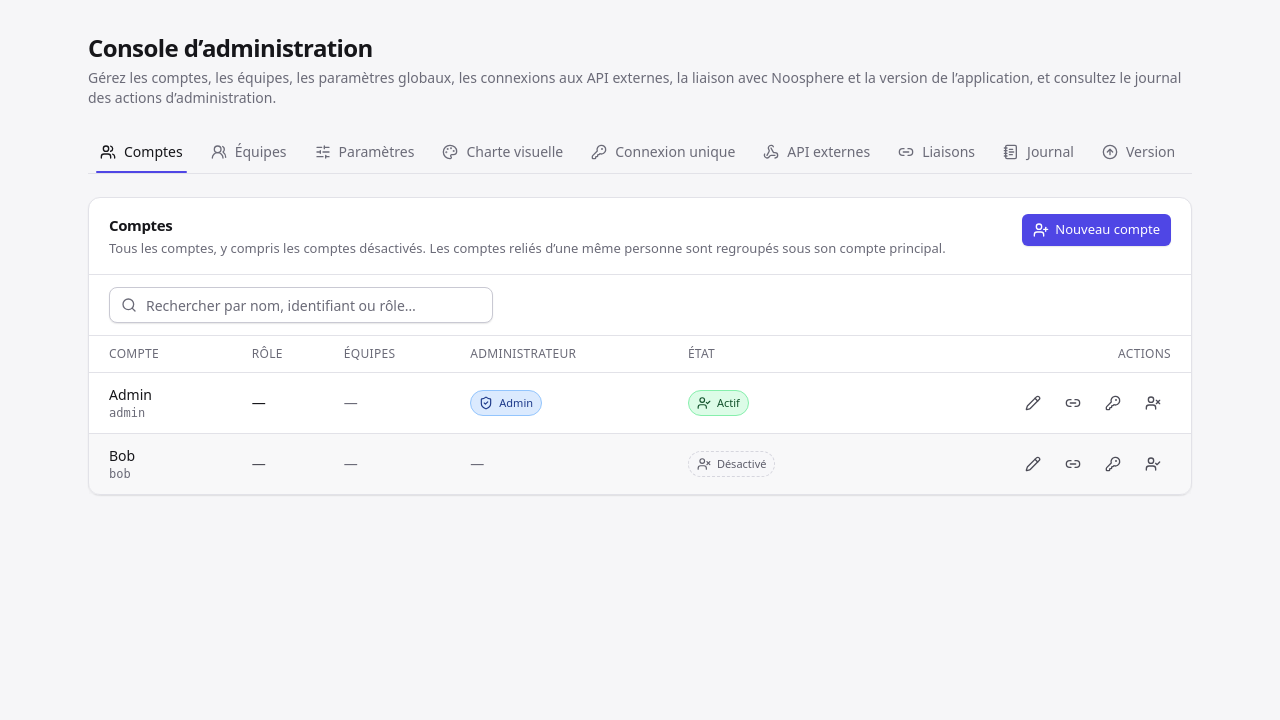
Test: Console d’administration › crée un compte et affiche le mot de passe provisoire
This screenshot has width=1280, height=720.
Expected: the text "Bob" is shown, left=109, top=446, right=135, bottom=466
Click the button "Nouveau compte" at (1097, 230), box left=1022, top=214, right=1171, bottom=246
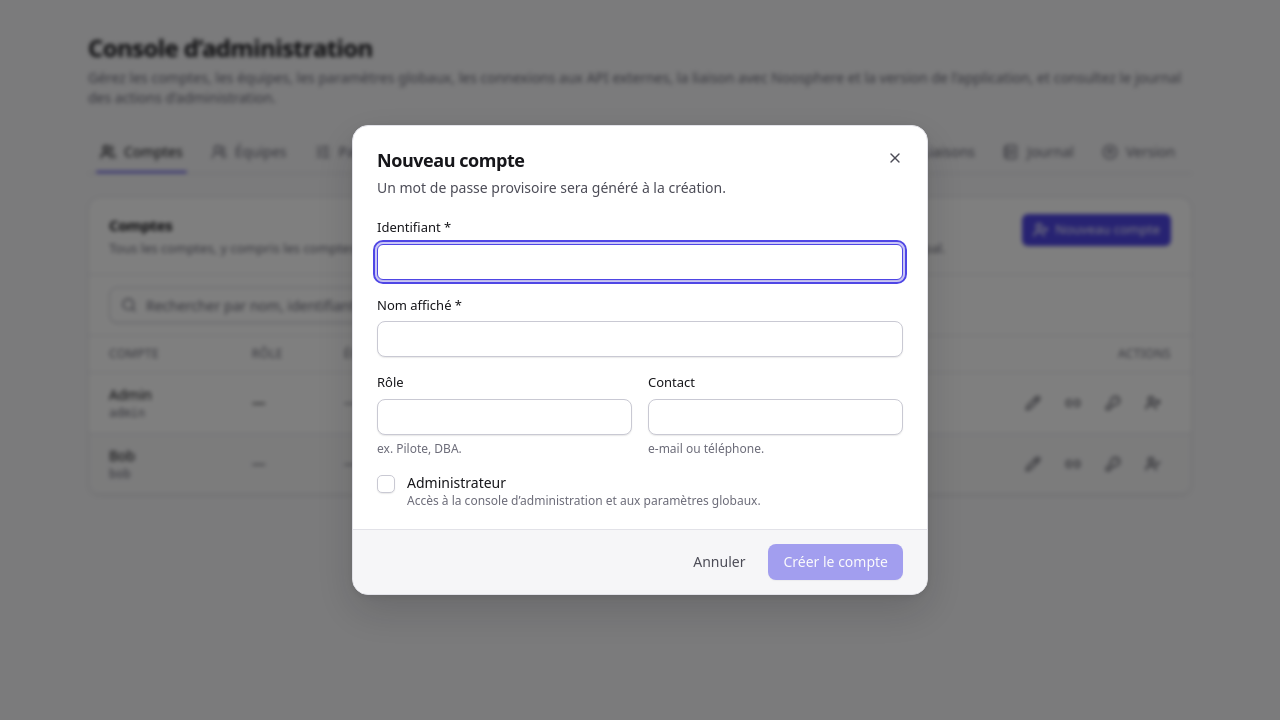
Type "dora" into the field labelled "Identifiant *" at (640, 262), box left=377, top=244, right=903, bottom=280
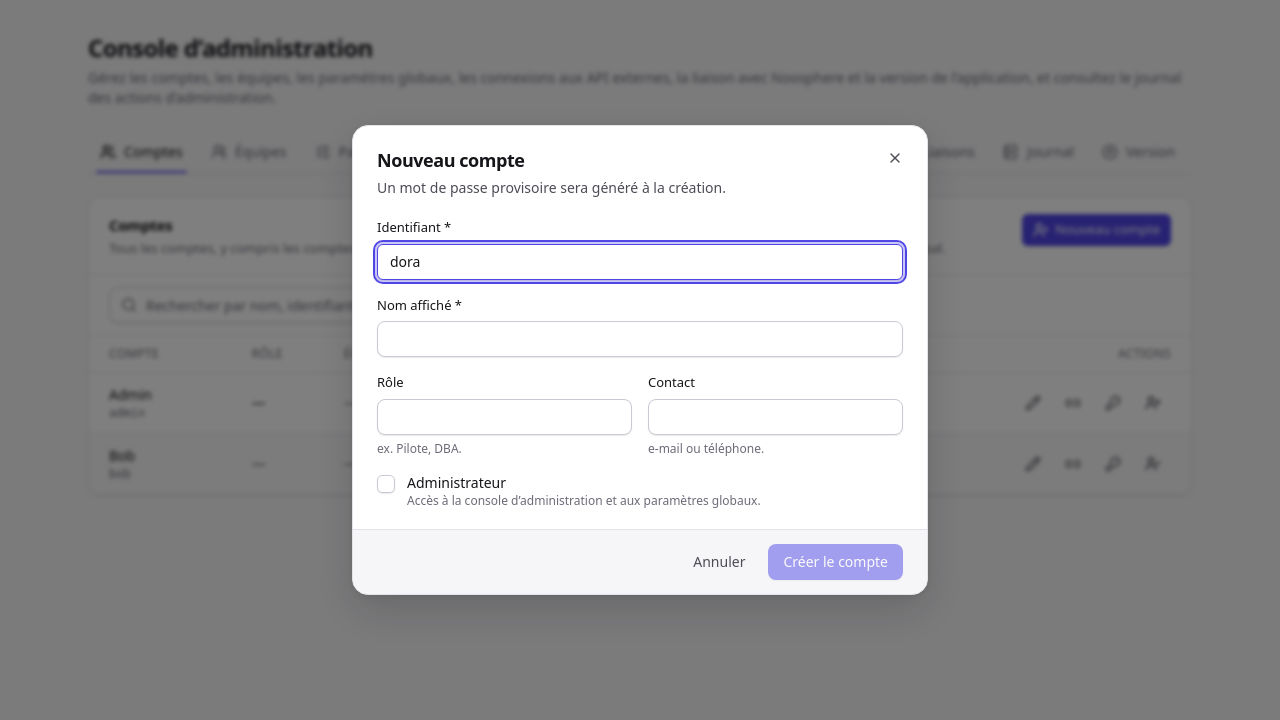
Type "Dora" into the field labelled "Nom affiché *" at (640, 339), box left=377, top=321, right=903, bottom=357
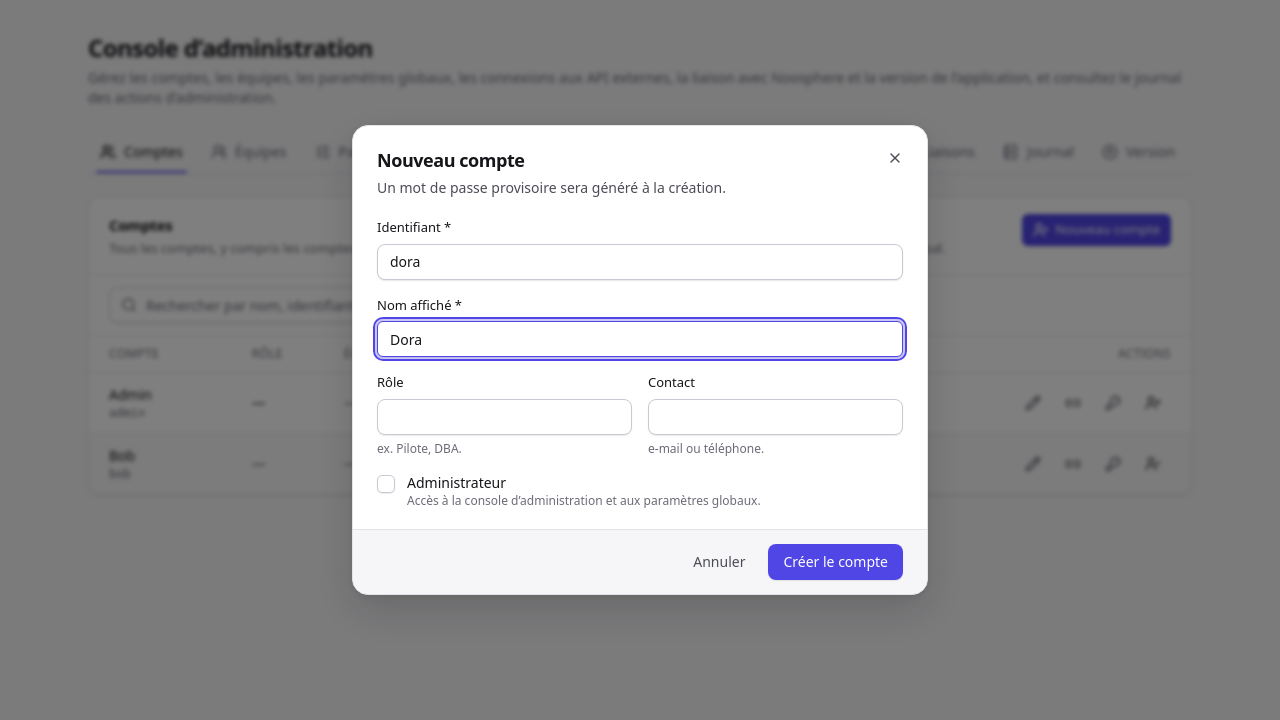
Click the button "Créer le compte" at (836, 562), box left=768, top=544, right=903, bottom=580
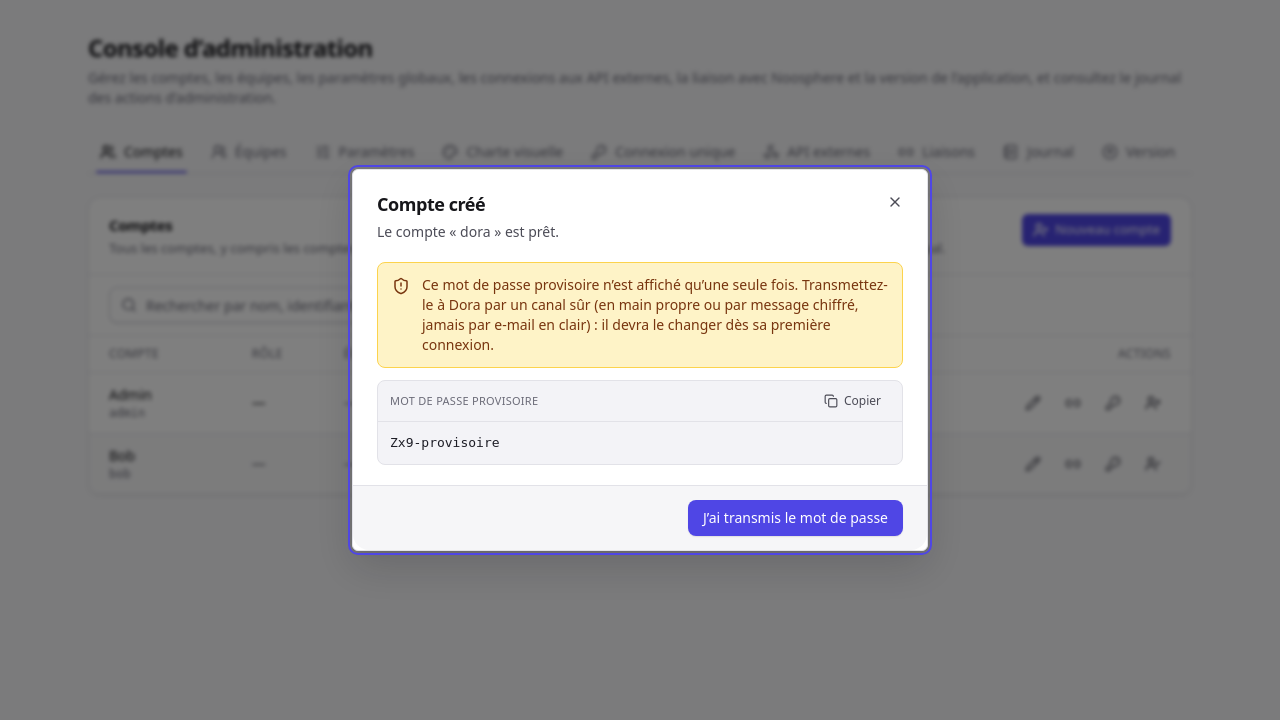
Now the text "Zx9-provisoire" is shown, box left=390, top=435, right=500, bottom=450
Now the text "canal sûr" is shown, box left=422, top=295, right=859, bottom=354
